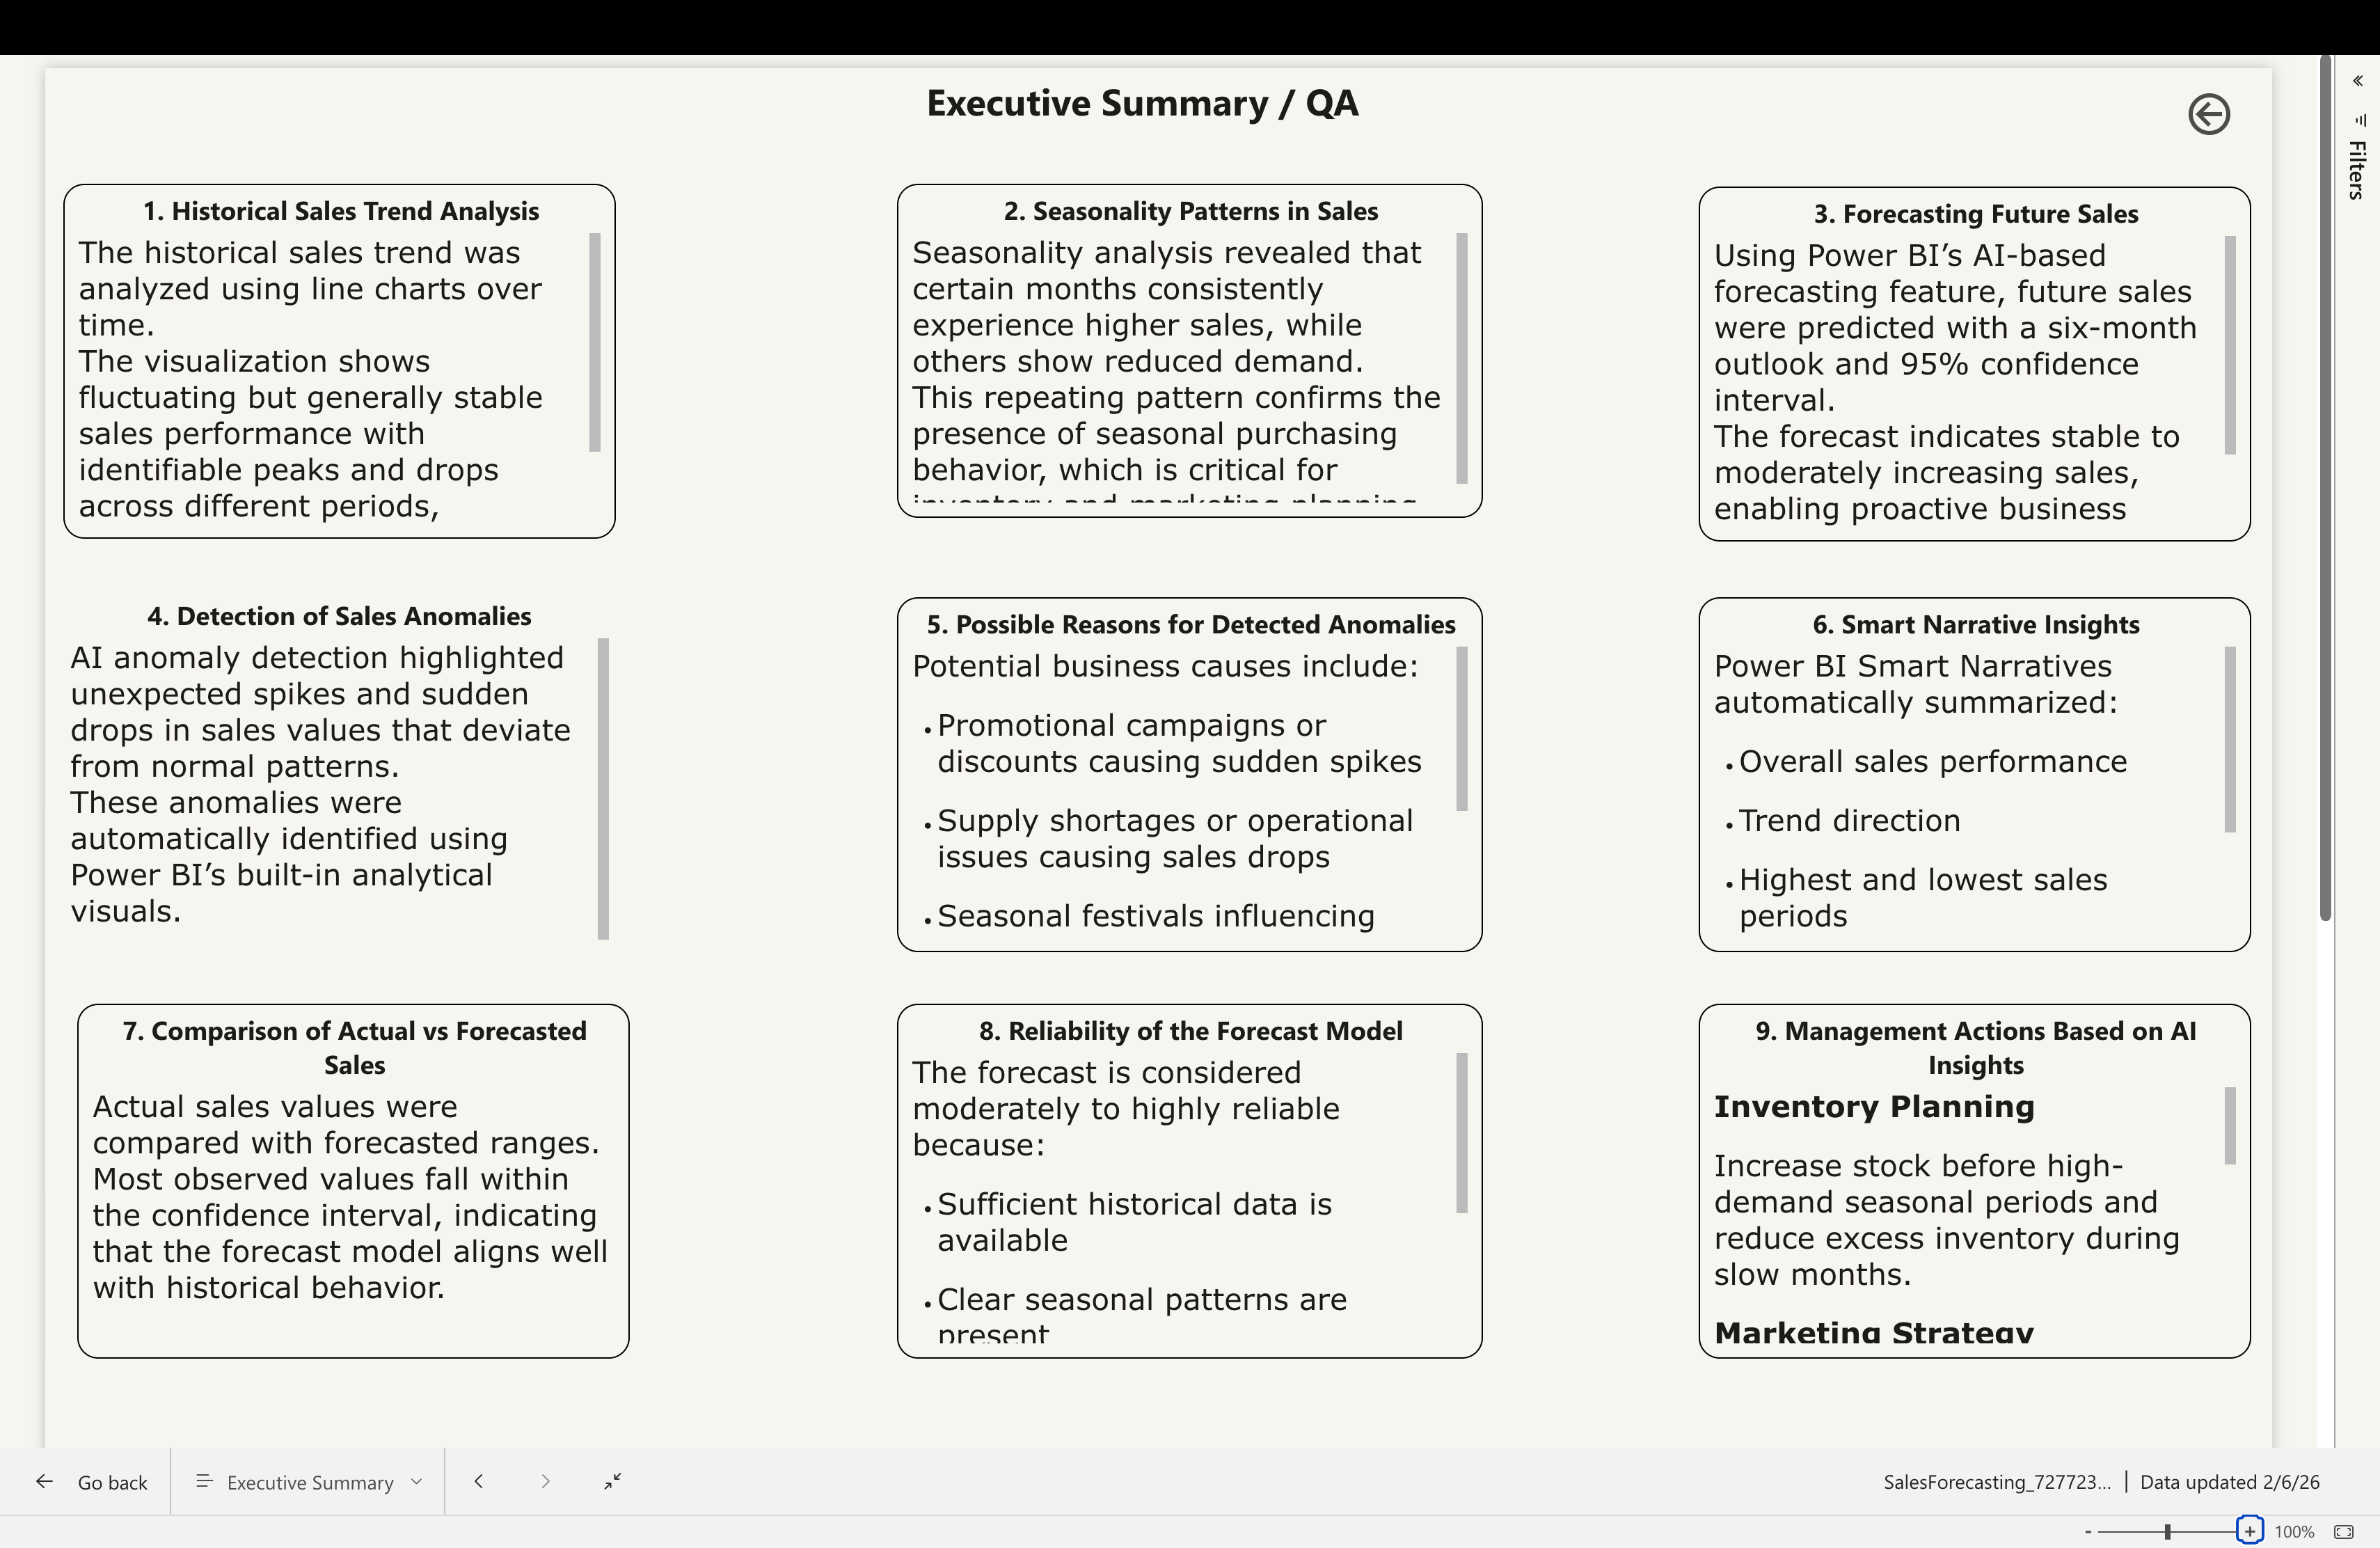

The dashboard page shown, as its layout file describes it:
{"tool":"powerbi","page":{"name":"Executive Summary","canvas":[1600,1600],"ordinal":3},"visuals":[{"type":"actionButton","box":[1535,13.3,50,40],"z":0},{"type":"textbox","box":[628.3,0,341.7,58.3],"z":1000},{"type":"textbox","title":"1. Historical Sales Trend Analysis","box":[13.3,83.3,396.7,255],"z":2000},{"type":"textbox","title":"2. Seasonality Patterns in Sales","box":[611.7,83.3,421.7,240],"z":3000},{"type":"textbox","title":"3. Forecasting Future Sales","box":[1188.3,85,396.7,255],"z":4000},{"type":"textbox","title":"4. Detection of Sales Anomalies","box":[13.3,380,396.7,255],"z":5000},{"type":"textbox","title":"6. Smart Narrative Insights","box":[1188.3,380,396.7,255],"z":6000},{"type":"textbox","title":"5. Possible Reasons for Detected Anomalies","box":[611.7,380,421.7,255],"z":7000},{"type":"textbox","title":"8. Reliability of the Forecast Model","box":[611.7,671.7,421.7,255],"z":8000},{"type":"textbox","title":"7. Comparison of Actual vs Forecasted Sales","box":[23.3,671.7,396.7,255],"z":9000},{"type":"textbox","title":"9. Management Actions Based on AI Insights","box":[1188.3,671.7,396.7,255],"z":10000}]}

Visuals, with their boxes on the page's 1600x1600 design canvas (x1, y1, x2, y2). These are canvas units, not pixel positions in the 2380x1548 screenshot, which may show the page scaled, cropped or inside an application window:
actionButton: Rect(1535, 13, 1585, 53)
textbox: Rect(628, 0, 970, 58)
"1. Historical Sales Trend Analysis" textbox: Rect(13, 83, 410, 338)
"2. Seasonality Patterns in Sales" textbox: Rect(612, 83, 1033, 323)
"3. Forecasting Future Sales" textbox: Rect(1188, 85, 1585, 340)
"4. Detection of Sales Anomalies" textbox: Rect(13, 380, 410, 635)
"6. Smart Narrative Insights" textbox: Rect(1188, 380, 1585, 635)
"5. Possible Reasons for Detected Anomalies" textbox: Rect(612, 380, 1033, 635)
"8. Reliability of the Forecast Model" textbox: Rect(612, 672, 1033, 927)
"7. Comparison of Actual vs Forecasted Sales" textbox: Rect(23, 672, 420, 927)
"9. Management Actions Based on AI Insights" textbox: Rect(1188, 672, 1585, 927)
